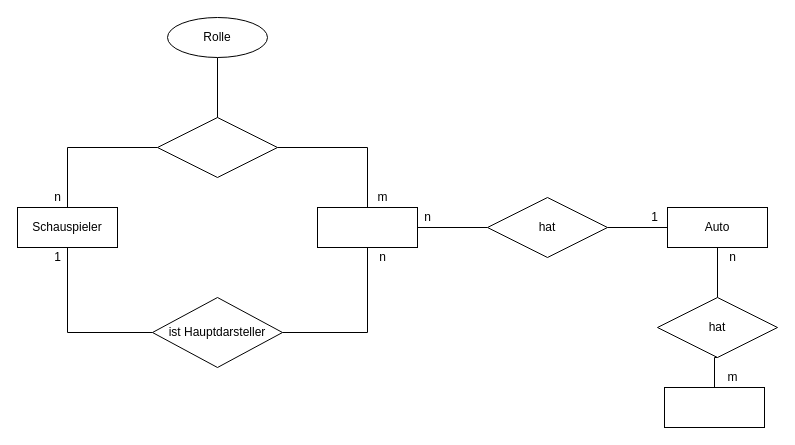
This 795x445 diagram has some shape labels left out. Here are the shapes that lost their labels. From the top down, the centre of each, then its label:
At [217,147]: "is Bösewicht".
At [367,227]: "Film".
At [714,407]: "Effekt".
